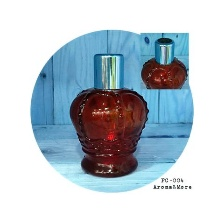bottle: (68, 50, 150, 185), (139, 35, 188, 90)
